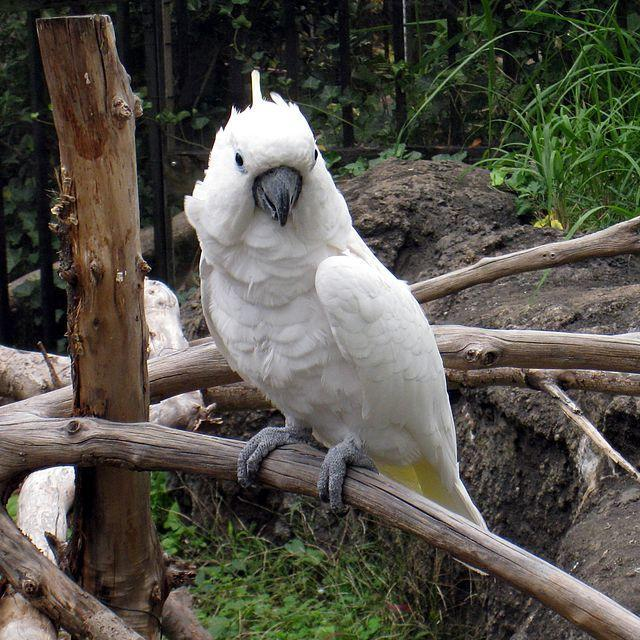Kakatua Putih: (138, 52, 520, 594)
